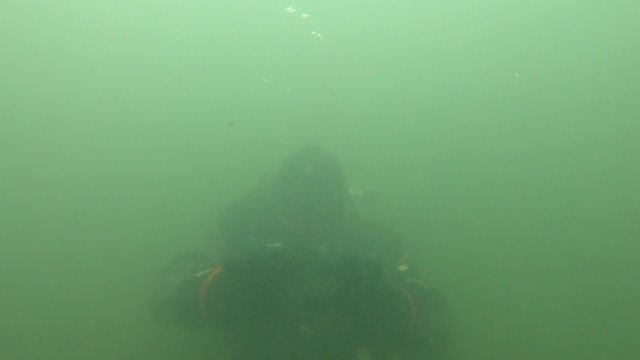Hand: (193, 248, 305, 338), (306, 252, 408, 342)
Head: (263, 141, 353, 244)
